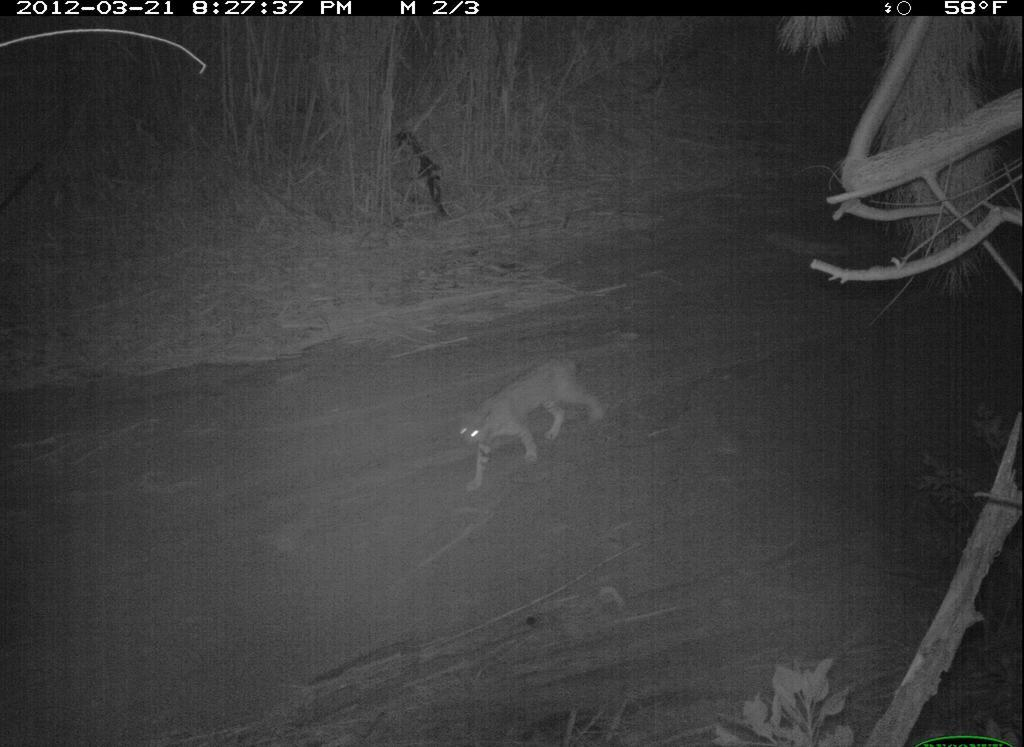bobcat: (444, 349, 614, 495)
